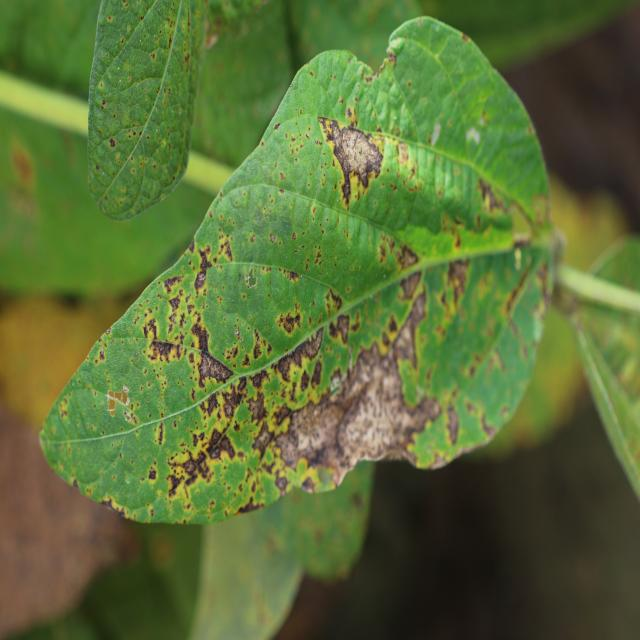Bacterial_Blight: (320, 116, 383, 207), (245, 364, 308, 450), (168, 425, 238, 497), (273, 326, 325, 384), (189, 321, 234, 387), (394, 287, 430, 364), (278, 123, 320, 186), (377, 230, 419, 273), (193, 242, 219, 294), (477, 176, 508, 217), (444, 258, 470, 305), (275, 295, 299, 343), (202, 427, 234, 462), (147, 337, 184, 363), (251, 422, 273, 460), (246, 389, 268, 425), (398, 271, 422, 300), (329, 312, 350, 343), (531, 193, 550, 227), (445, 404, 460, 446), (190, 320, 209, 351), (324, 287, 343, 315), (167, 469, 186, 497), (318, 116, 337, 142), (163, 273, 183, 293), (217, 237, 233, 261), (198, 247, 211, 272), (143, 318, 157, 341), (194, 269, 207, 292), (253, 336, 264, 361), (168, 293, 182, 312), (184, 457, 198, 475), (245, 268, 257, 289), (94, 345, 107, 364), (157, 420, 164, 445), (234, 327, 244, 343), (387, 53, 397, 66), (148, 467, 157, 480), (279, 172, 286, 181), (274, 122, 281, 131), (269, 233, 275, 242), (250, 234, 255, 243), (106, 327, 111, 335), (209, 211, 214, 219)
Soybean: (41, 17, 554, 522)
